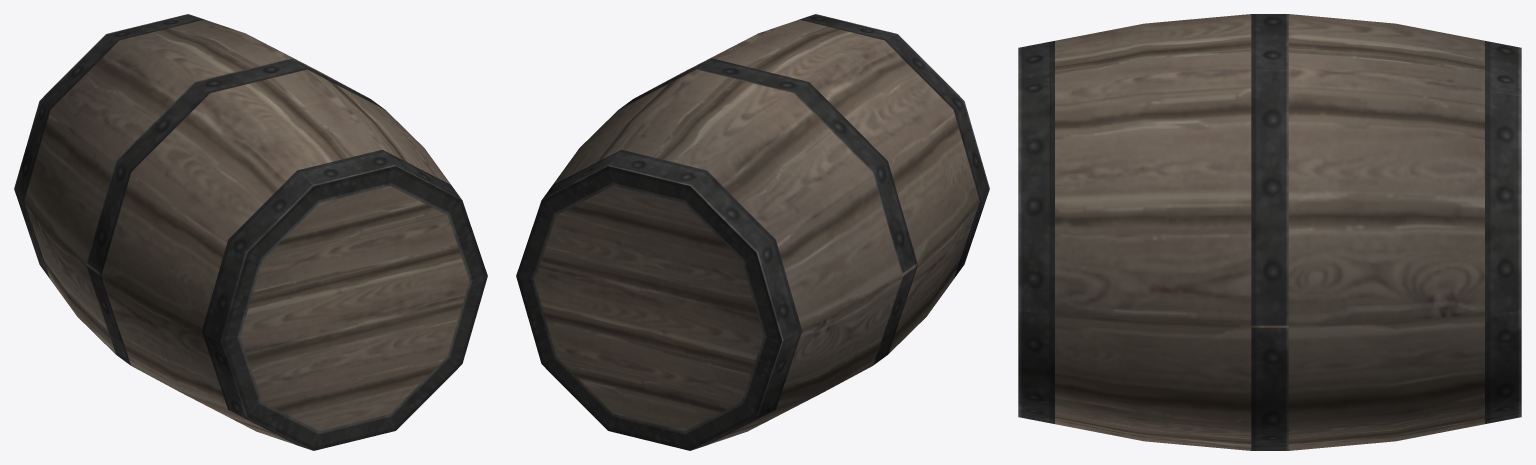
File: Barrel_B.fbx
3 renders of one model, left to right at view 1: azimuth 30°, elevation 25°; view 2: azimuth 150°, elevation 25°; view 3: azimuth 270°, elevation 25°, orthographic. The views are drawn at different scales.
Parts seen in each view (by area): view 1: Barrel_B; view 2: Barrel_B; view 3: Barrel_B.
Boxes of the visible parts, left/top/right/bottom form: Barrel_B: left=14, top=14, right=487, bottom=450; Barrel_B: left=516, top=14, right=989, bottom=450; Barrel_B: left=1018, top=14, right=1521, bottom=450.
Size of the model in its own units: 1.08 by 1.03 by 1.23.
